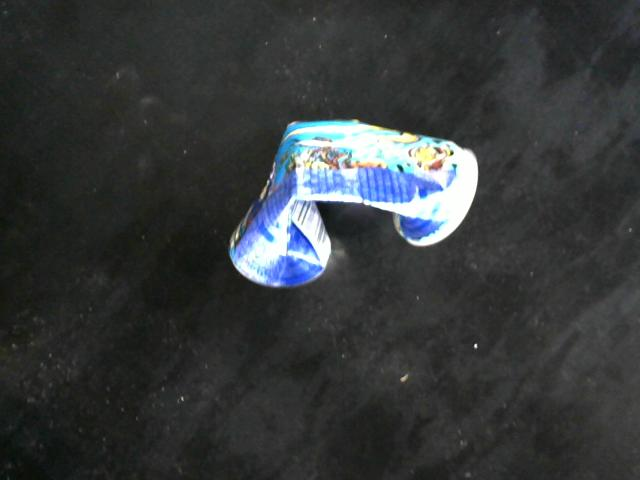can: (218, 109, 492, 296)
